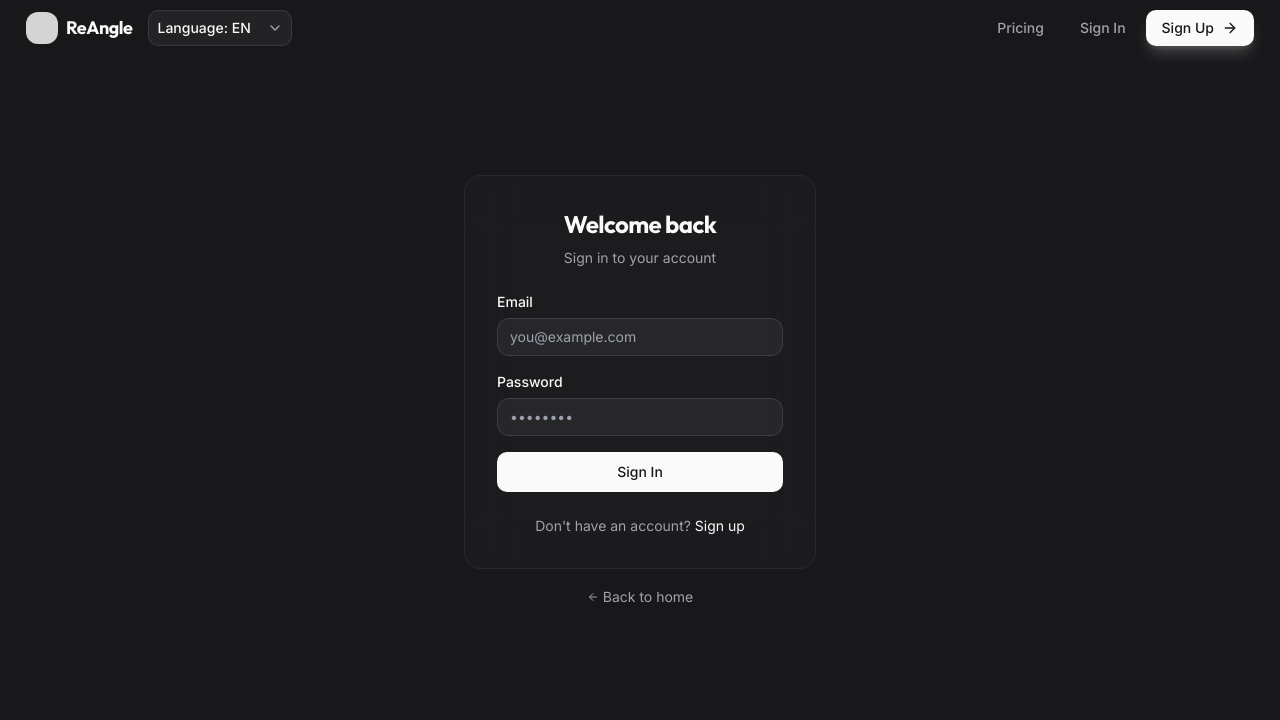
LoginPage › disables button and shows 'Signing in...' while loading
The image size is (1280, 720).
Type "user@example.com" into the field labelled "Email" at {"x": 640, "y": 337}, box [497, 318, 783, 356]
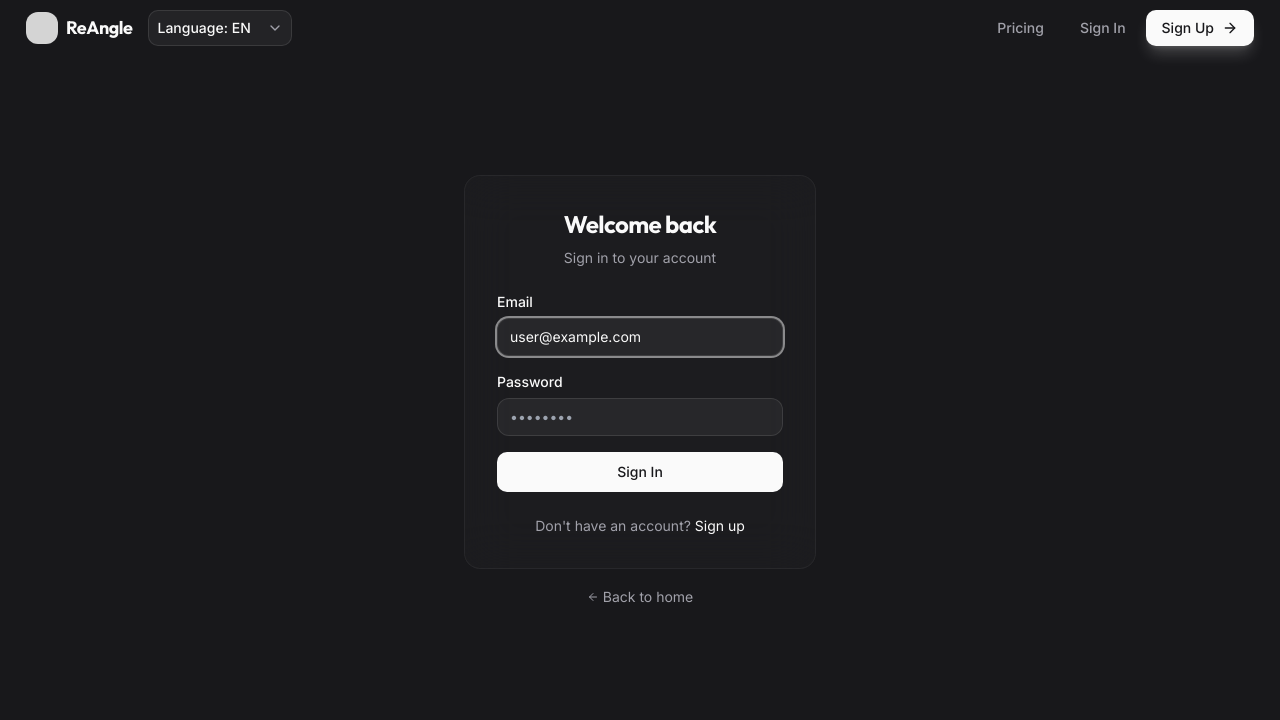
Type "password123" into the password field labelled "Password" at {"x": 640, "y": 417}, box [497, 398, 783, 436]
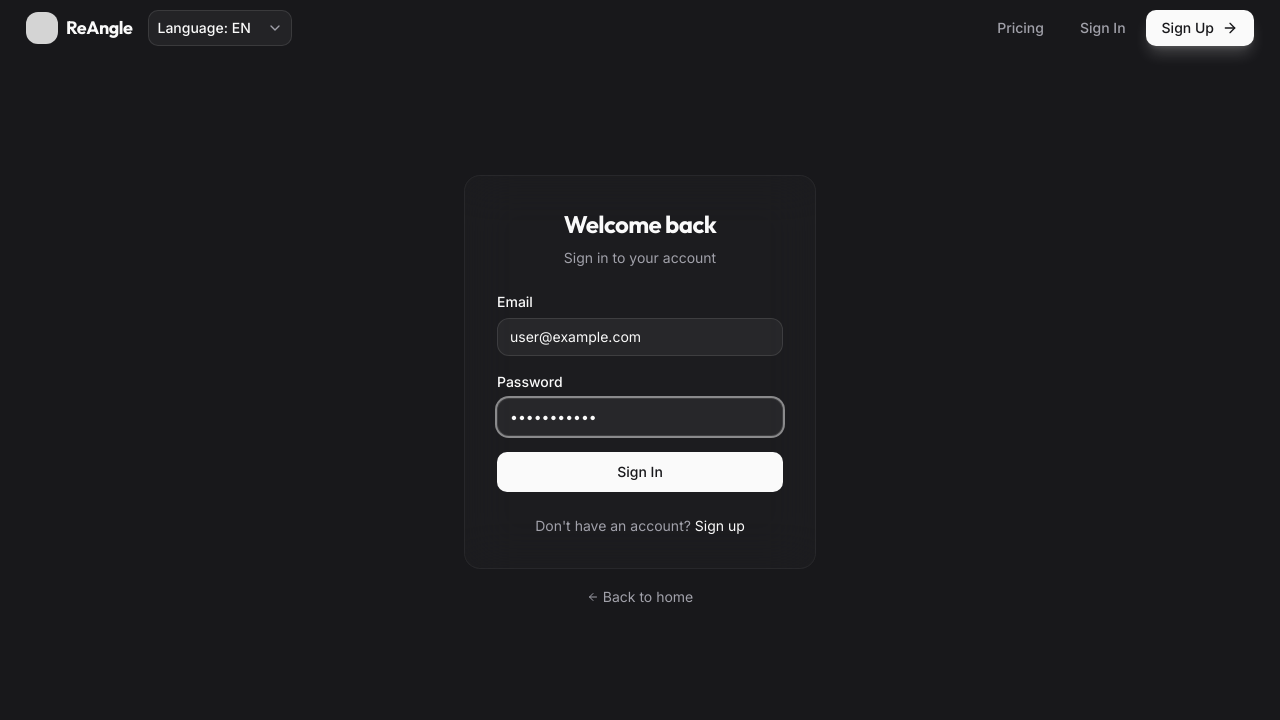
Click the button "Sign In" below "Password" at {"x": 640, "y": 472}, box [497, 452, 783, 492]
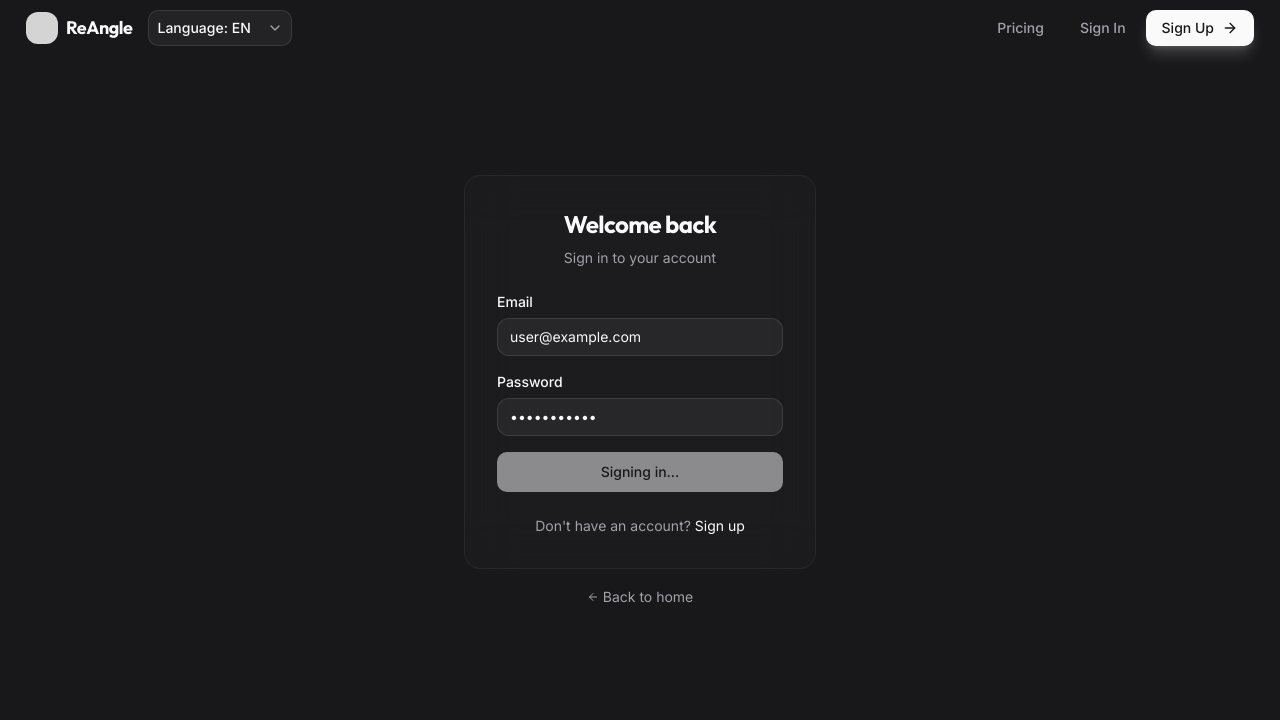
expect the button "Signing in..." is disabled: met, box [497, 452, 783, 492]
